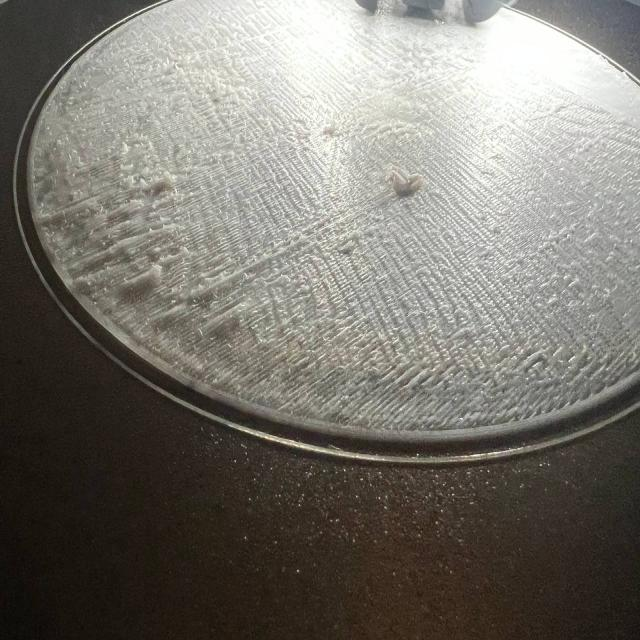blobs: (109, 264, 165, 293), (390, 163, 425, 203), (147, 173, 179, 196), (322, 116, 344, 144)
